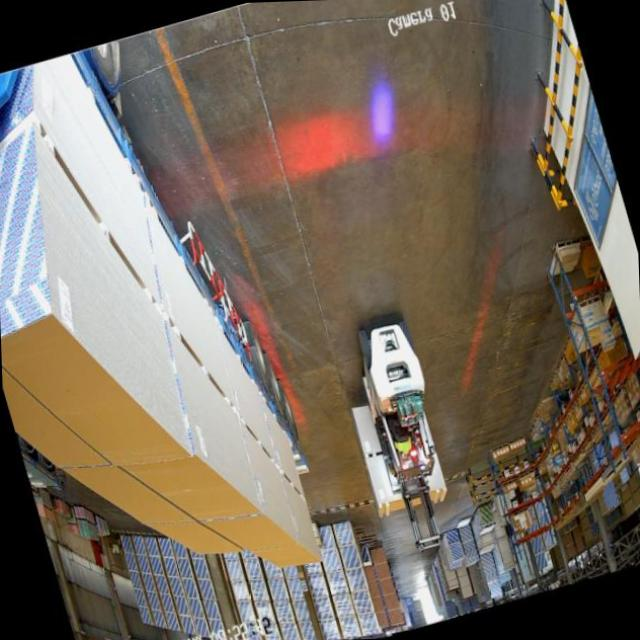driver: (390, 431, 420, 470)
forklift: (342, 306, 457, 495)
